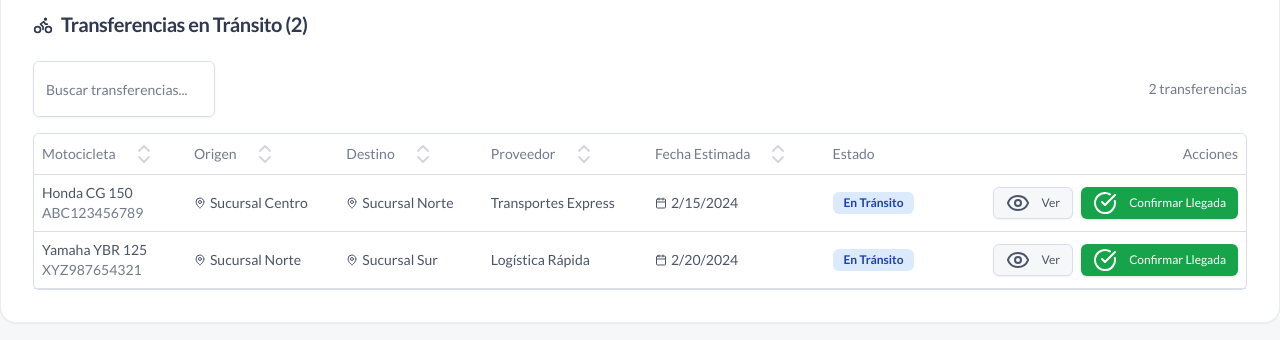
Scenario: TransfersInTransitTable › permite buscar transferencias
In the field with placeholder "Buscar transferencias...": (124, 89) 33,61 -> 215,117, type "Honda"
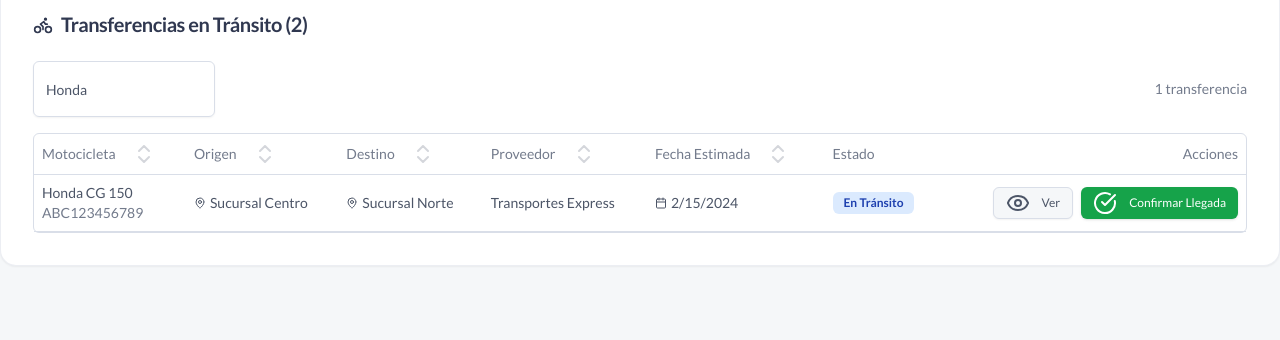
Check: the text "Honda CG 150" is shown, box 42,184 -> 133,200
Check: the text "Yamaha YBR 125" is gone
